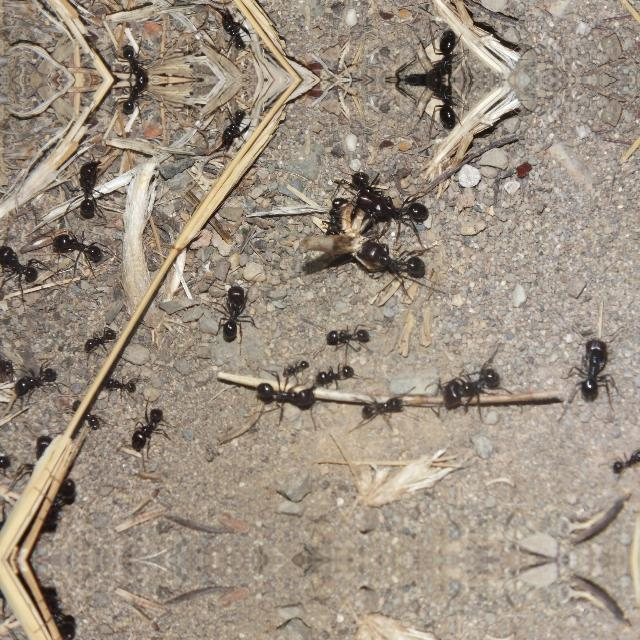Messor: (440, 350, 518, 412), (571, 334, 625, 408), (410, 80, 468, 140), (410, 20, 468, 80), (70, 152, 110, 228), (124, 400, 176, 456), (361, 242, 431, 282), (365, 188, 431, 228), (214, 97, 258, 157), (214, 3, 258, 63), (10, 363, 64, 411), (31, 468, 73, 528), (344, 164, 386, 218), (260, 373, 318, 412), (320, 318, 378, 354), (355, 392, 409, 430), (31, 592, 73, 640), (56, 230, 106, 268), (0, 236, 36, 285), (112, 80, 158, 118), (112, 42, 158, 80), (314, 192, 352, 236), (312, 358, 356, 394), (79, 320, 113, 358), (73, 393, 103, 432), (98, 369, 140, 396), (24, 434, 56, 468), (276, 353, 308, 383), (0, 447, 10, 476)
